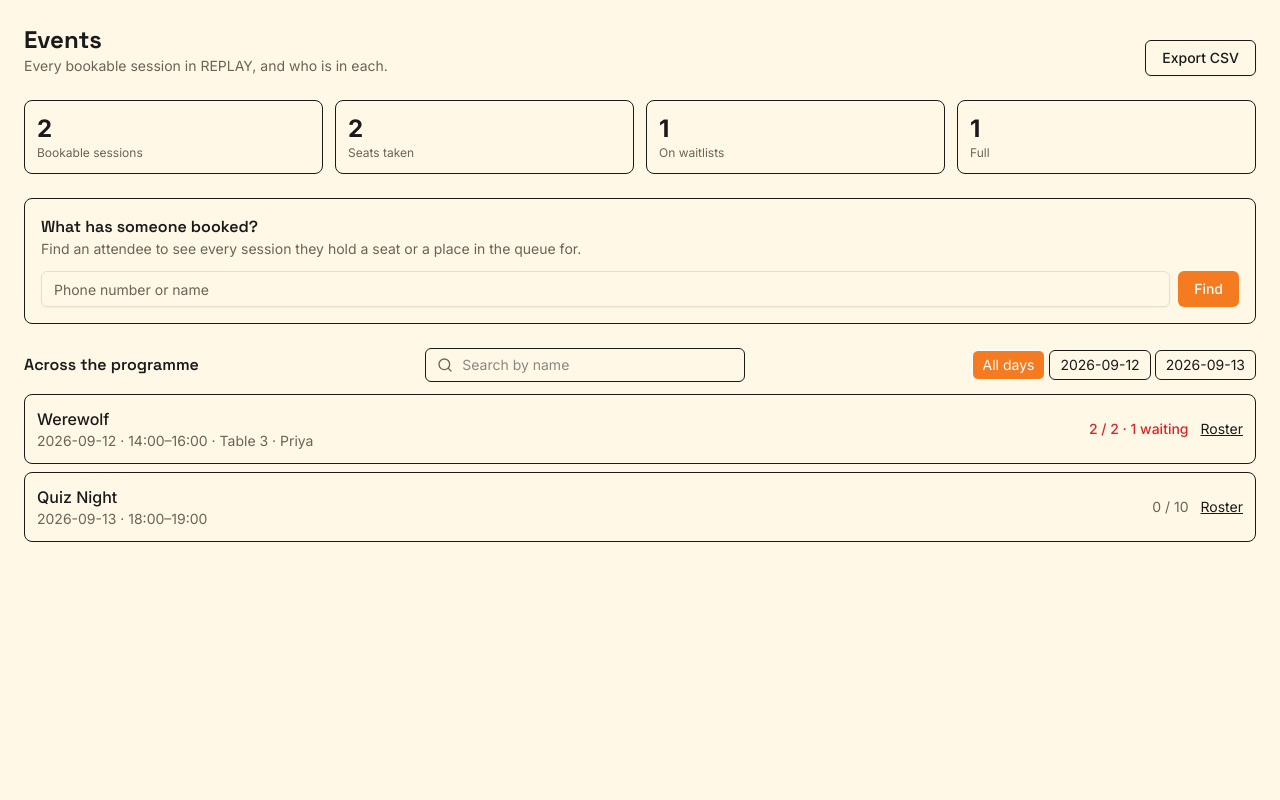
Scenario: what has this person booked › answers across the whole programme from the payload already loaded
Expected: the text "Werewolf" is shown, x1=37 y1=409 x2=109 y2=429
Type "3210" into the field named "Find an attendee".
click(606, 289); type("3210")  # box x1=41 y1=271 x2=1170 y2=307
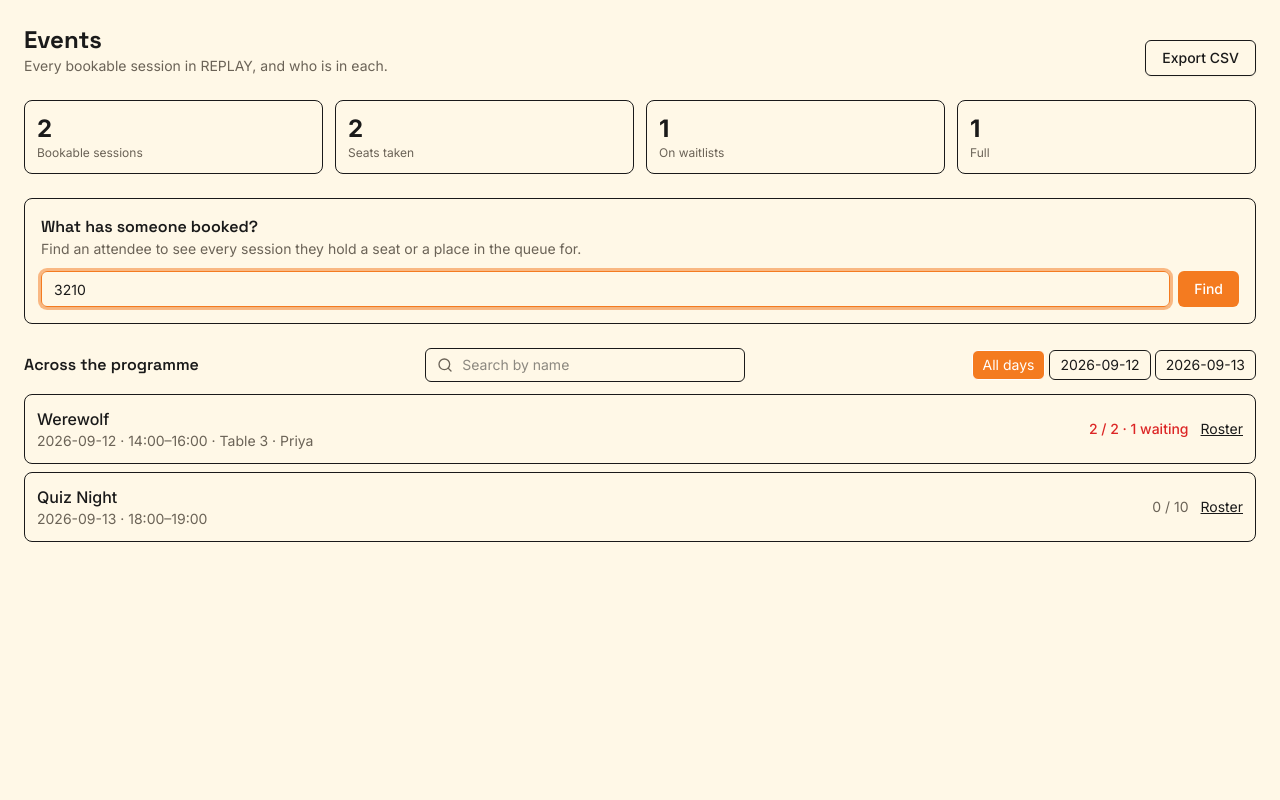
Click the button "Find".
click(1209, 289)  # box x1=1178 y1=271 x2=1239 y2=307
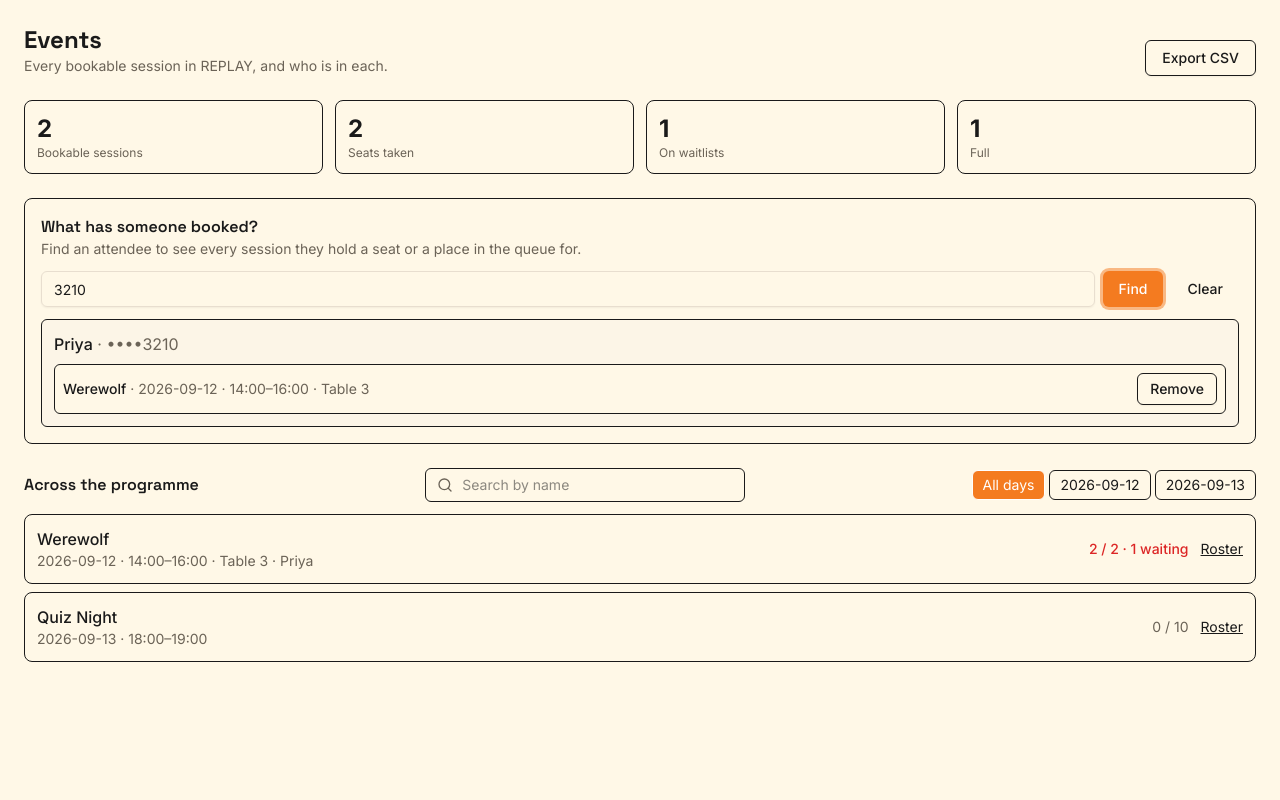
Now the button "Clear" is shown, box x1=1172 y1=271 x2=1239 y2=307
Now the text "Werewolf" is shown 2 times, box x1=63 y1=380 x2=126 y2=397; x1=37 y1=529 x2=109 y2=549
